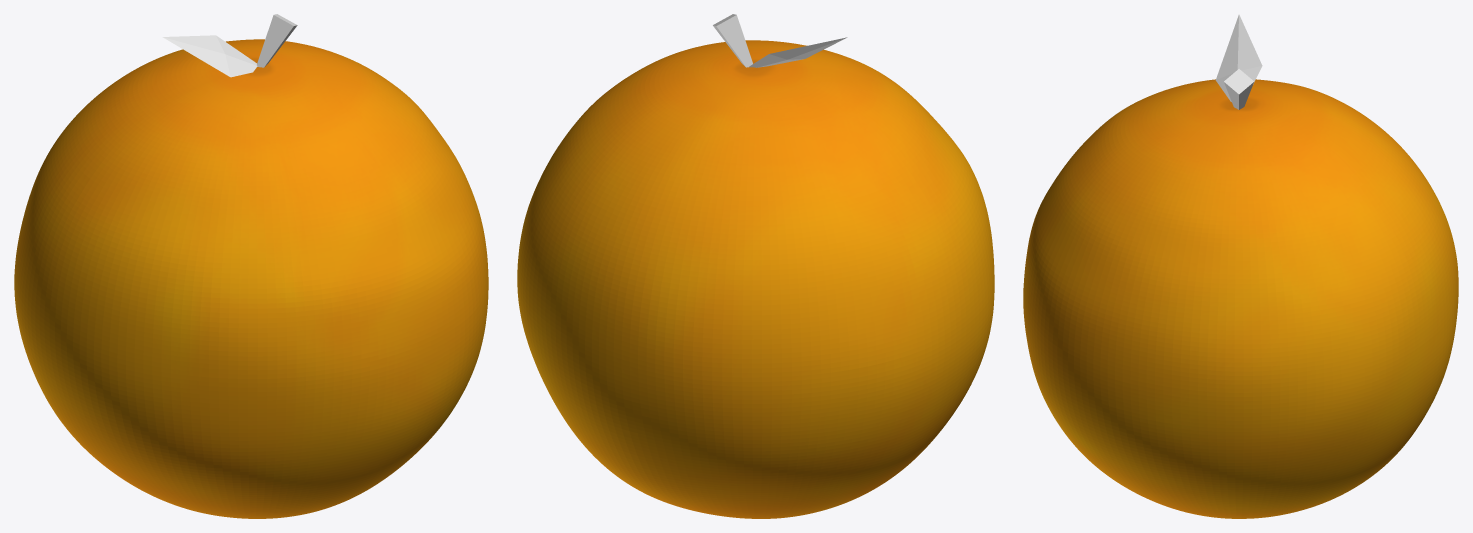
Rendered from OrangeMarble.fbx.
3 renders of one model, left to right at view 1: azimuth 30°, elevation 25°; view 2: azimuth 150°, elevation 25°; view 3: azimuth 270°, elevation 25°, orthographic. The views are drawn at different scales.
Visible parts, largest first — view 1: Orange, Leaf, Stem; view 2: Orange, Stem, Leaf; view 3: Orange, Leaf, Stem.
Boxes of the visible parts, box(x1,y1,x2,y2) form: Orange: box(14, 39, 488, 518); Leaf: box(162, 35, 257, 77); Stem: box(257, 14, 297, 67); Orange: box(517, 40, 994, 518); Stem: box(713, 14, 752, 67); Leaf: box(749, 37, 847, 67); Orange: box(1023, 79, 1458, 518); Leaf: box(1215, 14, 1262, 101); Stem: box(1224, 69, 1254, 109).
Bounding box in the file's own units: 197 × 220 × 195.
1 material, 1 textured.
